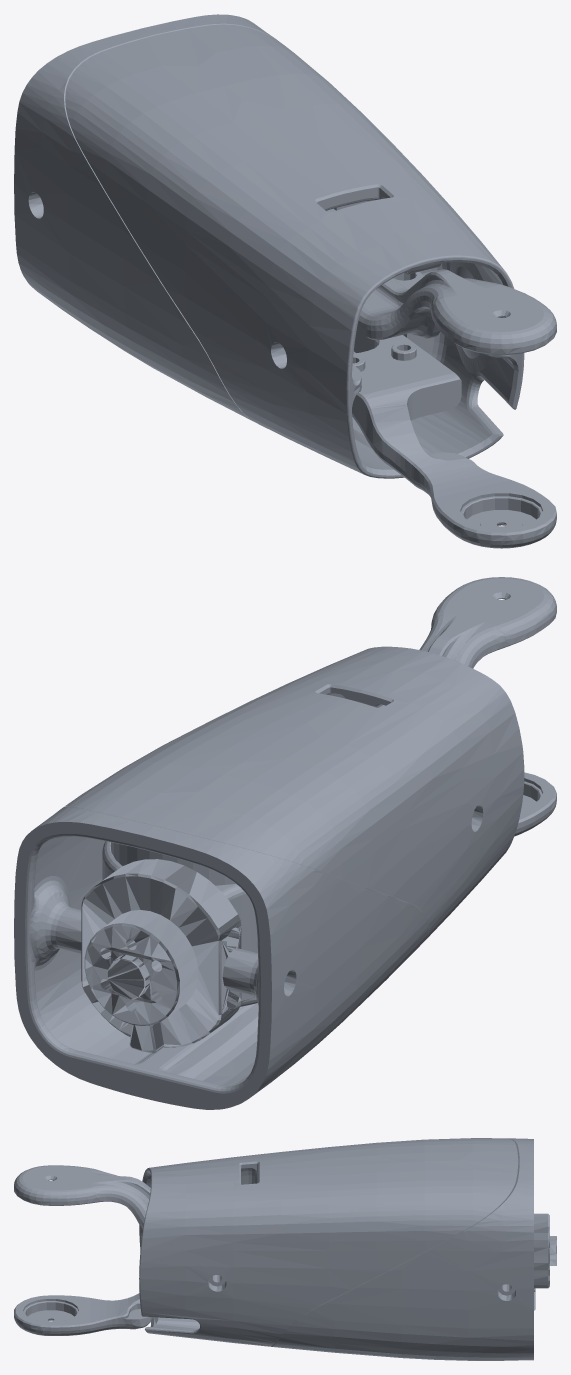
3 views of the same model, one above another, from view 1: azimuth 30°, elevation 25°; view 2: azimuth 150°, elevation 25°; view 3: azimuth 270°, elevation 25° (orthographic). The views are drawn at different scales.
Bounding box in the file's own units: 0.07 × 0.0695 × 0.1894.
